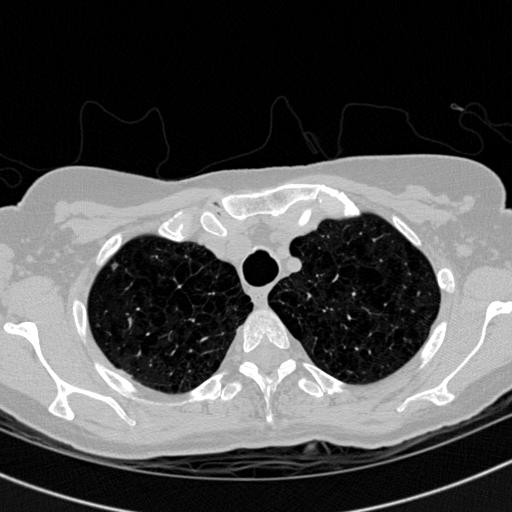nodule: (109, 260, 121, 272)
